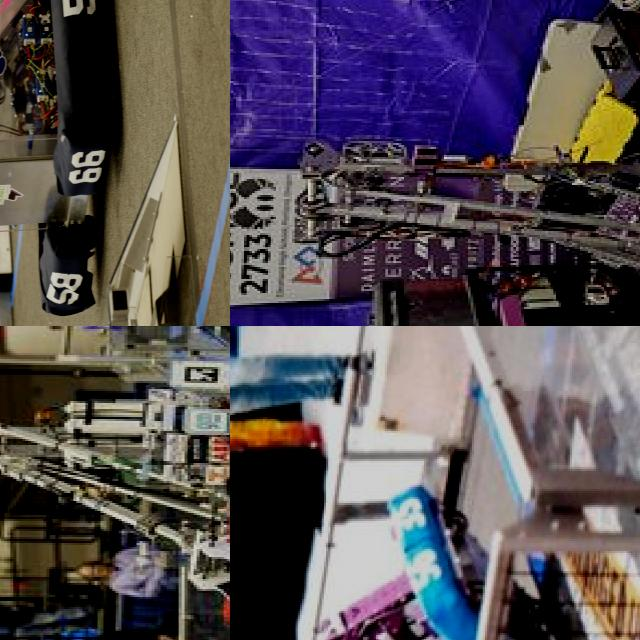FRC-Robots: (283, 108, 640, 292), (0, 326, 230, 605), (0, 0, 128, 295), (230, 534, 514, 640)
